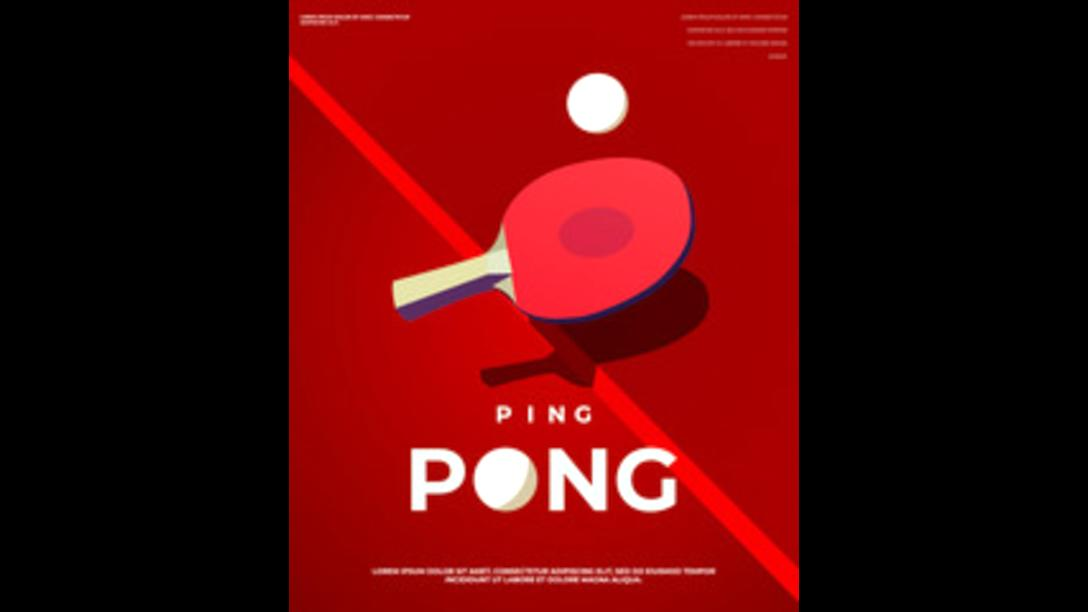Table-Tennis-Ball: (474, 447, 536, 511), (569, 73, 628, 133)
